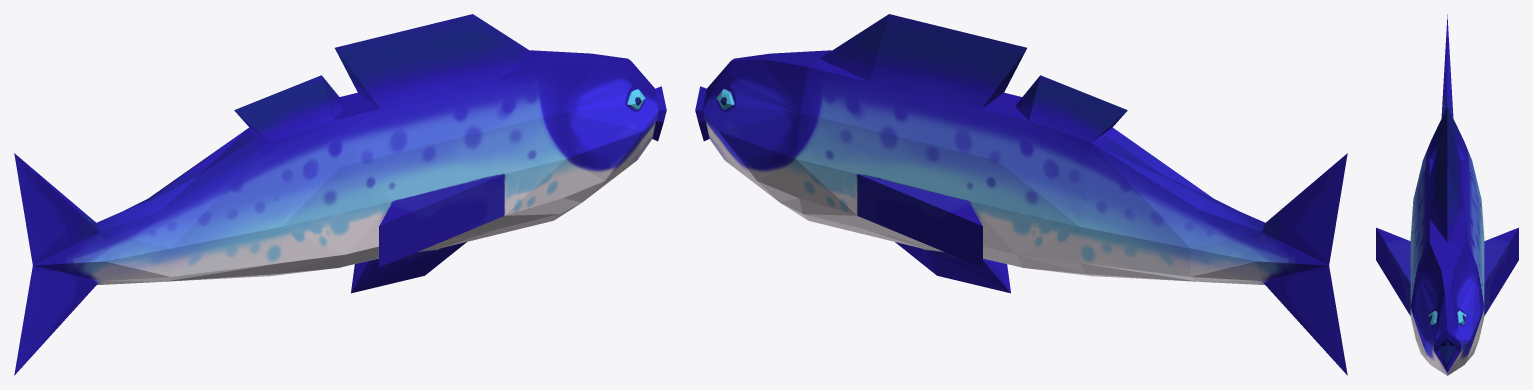
Rendered from fish.FBX.
The picture shows the model from 3 angles, left to right: view 1: azimuth 30°, elevation 25°; view 2: azimuth 150°, elevation 25°; view 3: azimuth 270°, elevation 25°; orthographic projection. The views are drawn at different scales.
Visible parts, largest first — view 1: Box002; view 2: Box002; view 3: Box002.
Boxes of the visible parts, bbox=[...] form: Box002: bbox=[14, 14, 666, 375]; Box002: bbox=[695, 14, 1347, 375]; Box002: bbox=[1376, 14, 1518, 375].
Bounding box in the file's own units: 2173 × 802 × 532.
1 material, 1 textured.
